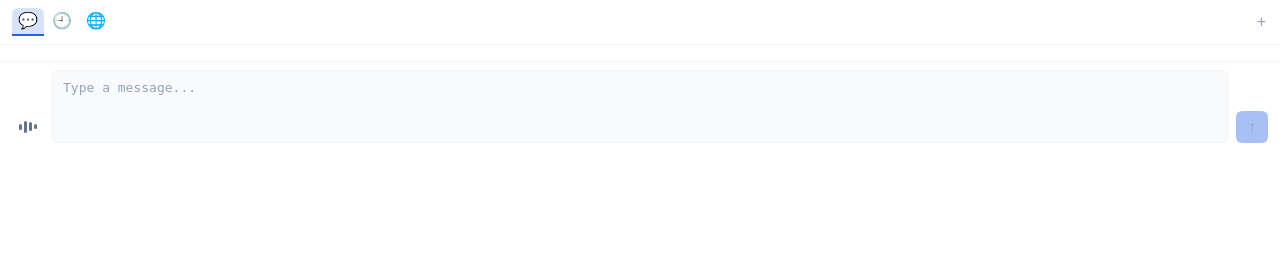
Test: ChatArea › queues rapid sends until the active stream finishes
Type "첫번째" into the text box with placeholder "Type a message...".
click(640, 106); type("첫번째")  # box [52, 70, 1228, 143]
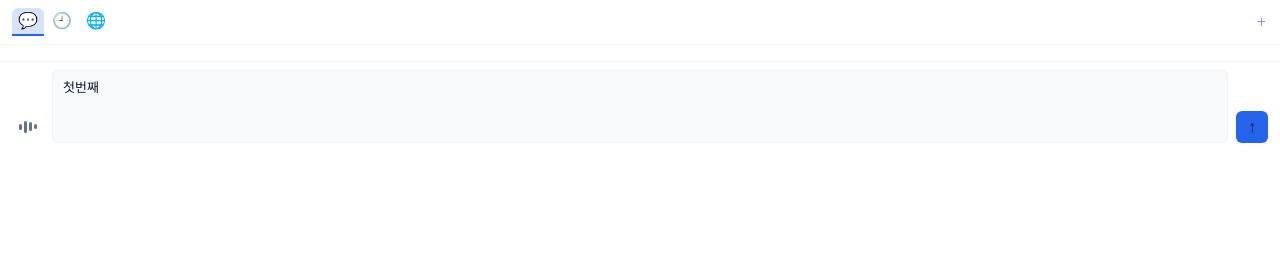
Press Enter in the text box with placeholder "Type a message...", box [52, 70, 1228, 143]
Replace the text in the text box with placeholder "Type a message..." with "두번째" at [640, 106], box [52, 70, 1228, 143]
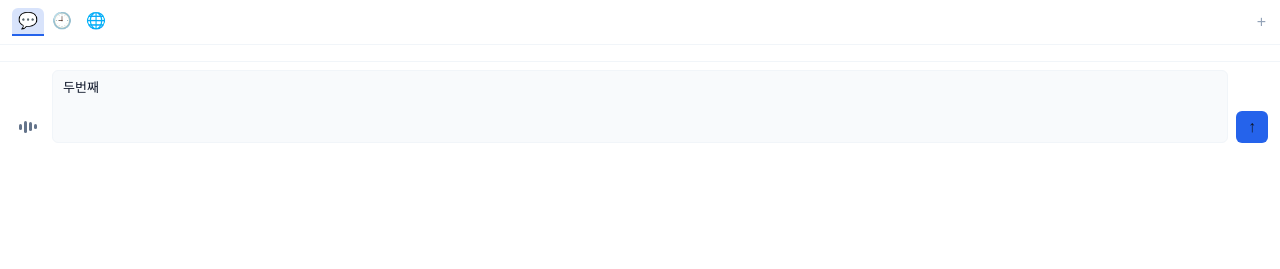
Press Enter in the text box with placeholder "Type a message...", box [52, 70, 1228, 143]
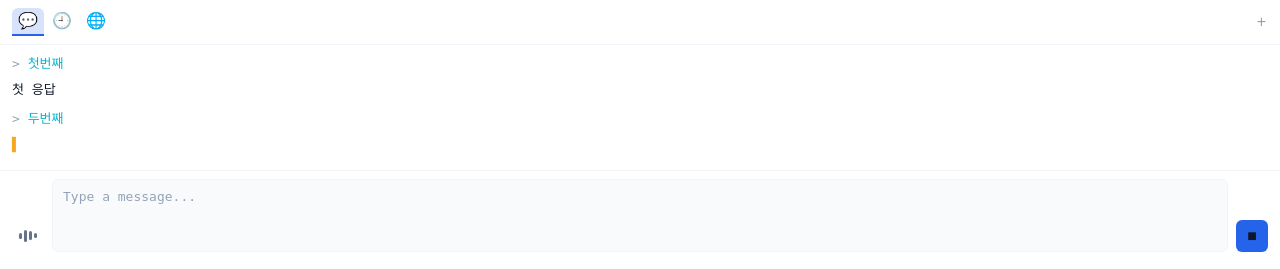
Expected: the text "두번째" is shown, [28, 110, 64, 126]
